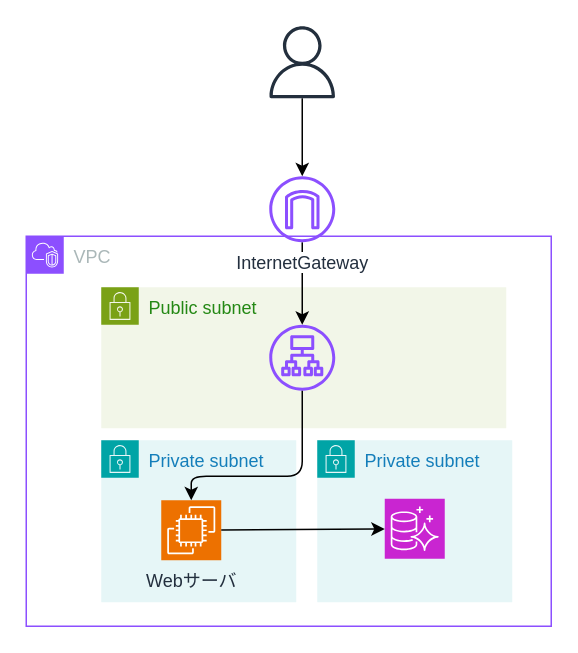
Image size: 578x653. Some labels were removed from this diagram. Here are the shapes that lost their labels. From the top down, the centre of each, then its label:
At (302,62): "User".
At (301,357): "ALB".
At (414,528): "Aurora MySQL".
